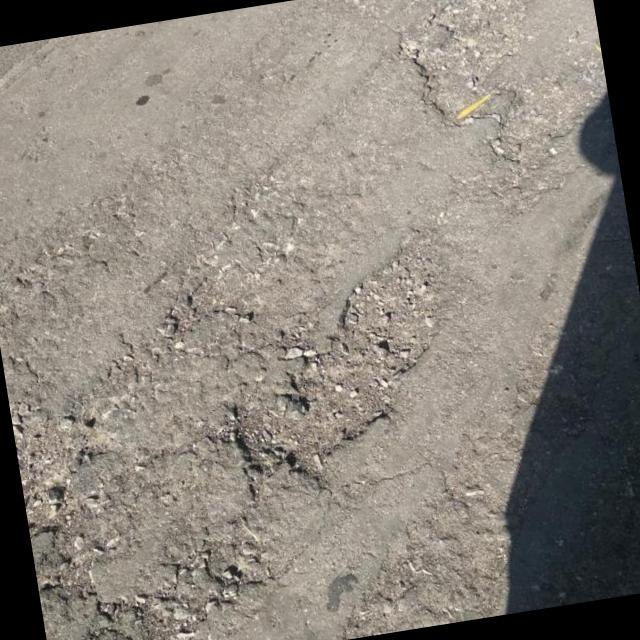pothole: (212, 338, 417, 496), (384, 0, 576, 130), (318, 234, 472, 378), (481, 72, 594, 176)
